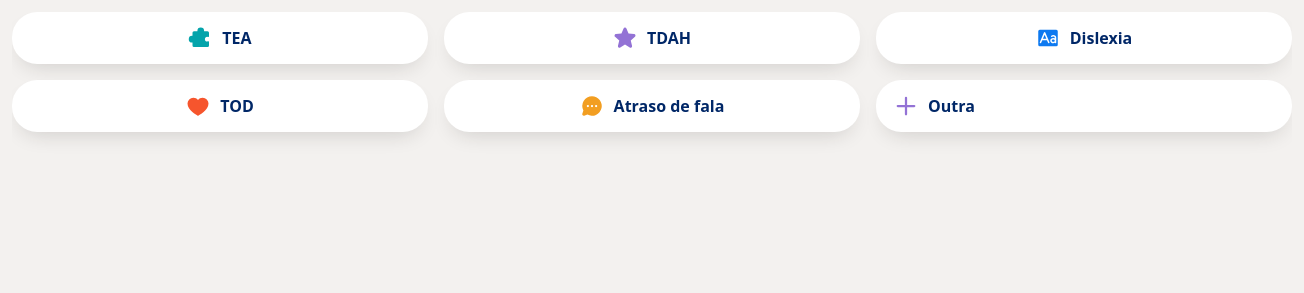
Test: CondicaoChips (condições customizadas) › cria um chip custom ao digitar e apertar Enter no campo aberto por Outra
Click the button "Outra". click: (951, 106)
box: [876,80,1292,132]
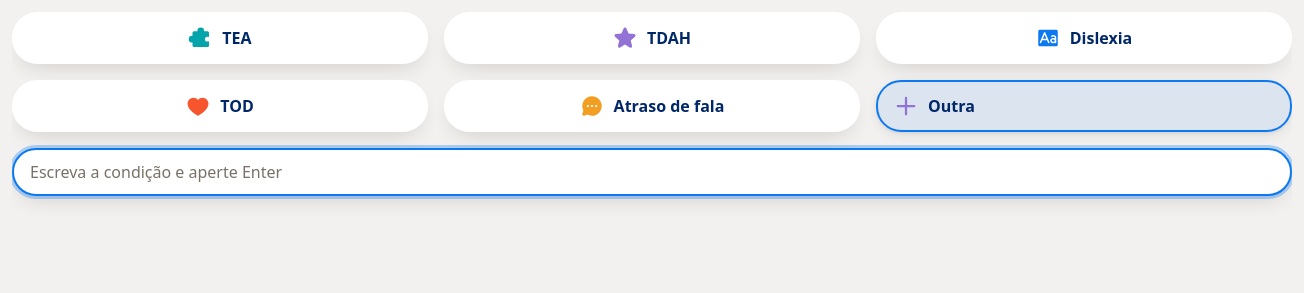
Type "Sensibilidade alimentar" into the field named "Nova condição personalizada". click: (652, 172)
box: [12,148,1292,196]
Then press Enter
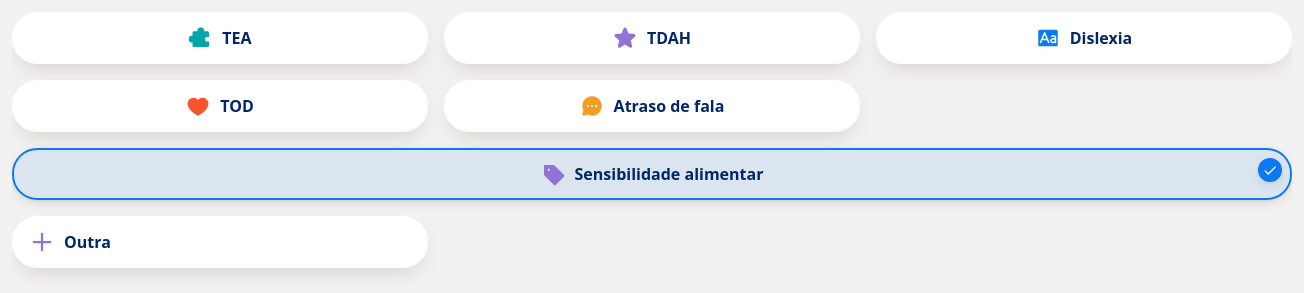
Expected: the button "Sensibilidade alimentar" is shown, [12,148,1292,200]
